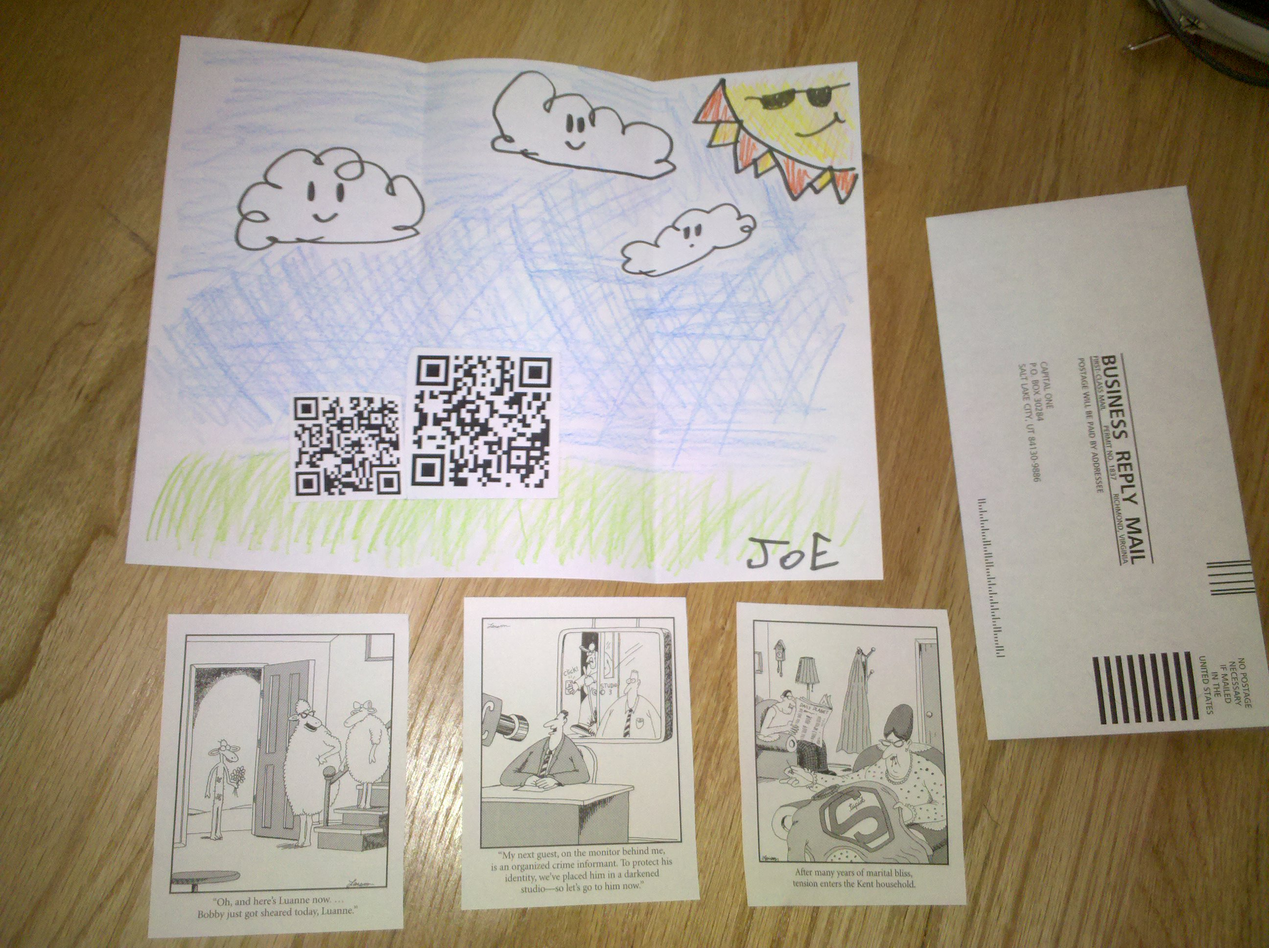QR-CODE: (411, 355, 552, 488), (294, 397, 401, 496)
